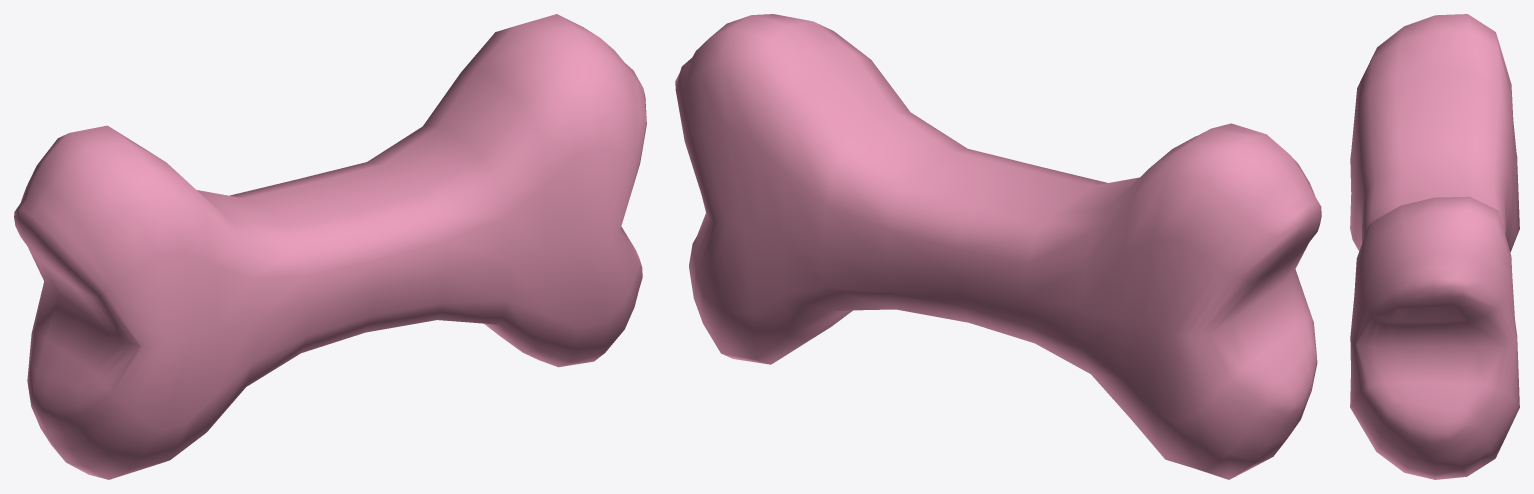
Rendered from kemik.fbx.
The picture shows the model from 3 angles, left to right: view 1: azimuth 30°, elevation 25°; view 2: azimuth 150°, elevation 25°; view 3: azimuth 270°, elevation 25°; orthographic projection. The views are drawn at different scales.
Visible parts, largest first — view 1: kemik; view 2: kemik; view 3: kemik.
Boxes of the visible parts, left/top/right/bottom form: kemik: left=14, top=14, right=646, bottom=479; kemik: left=675, top=14, right=1321, bottom=479; kemik: left=1350, top=14, right=1519, bottom=479.
Size of the model in its own units: 434 by 223 by 127.
